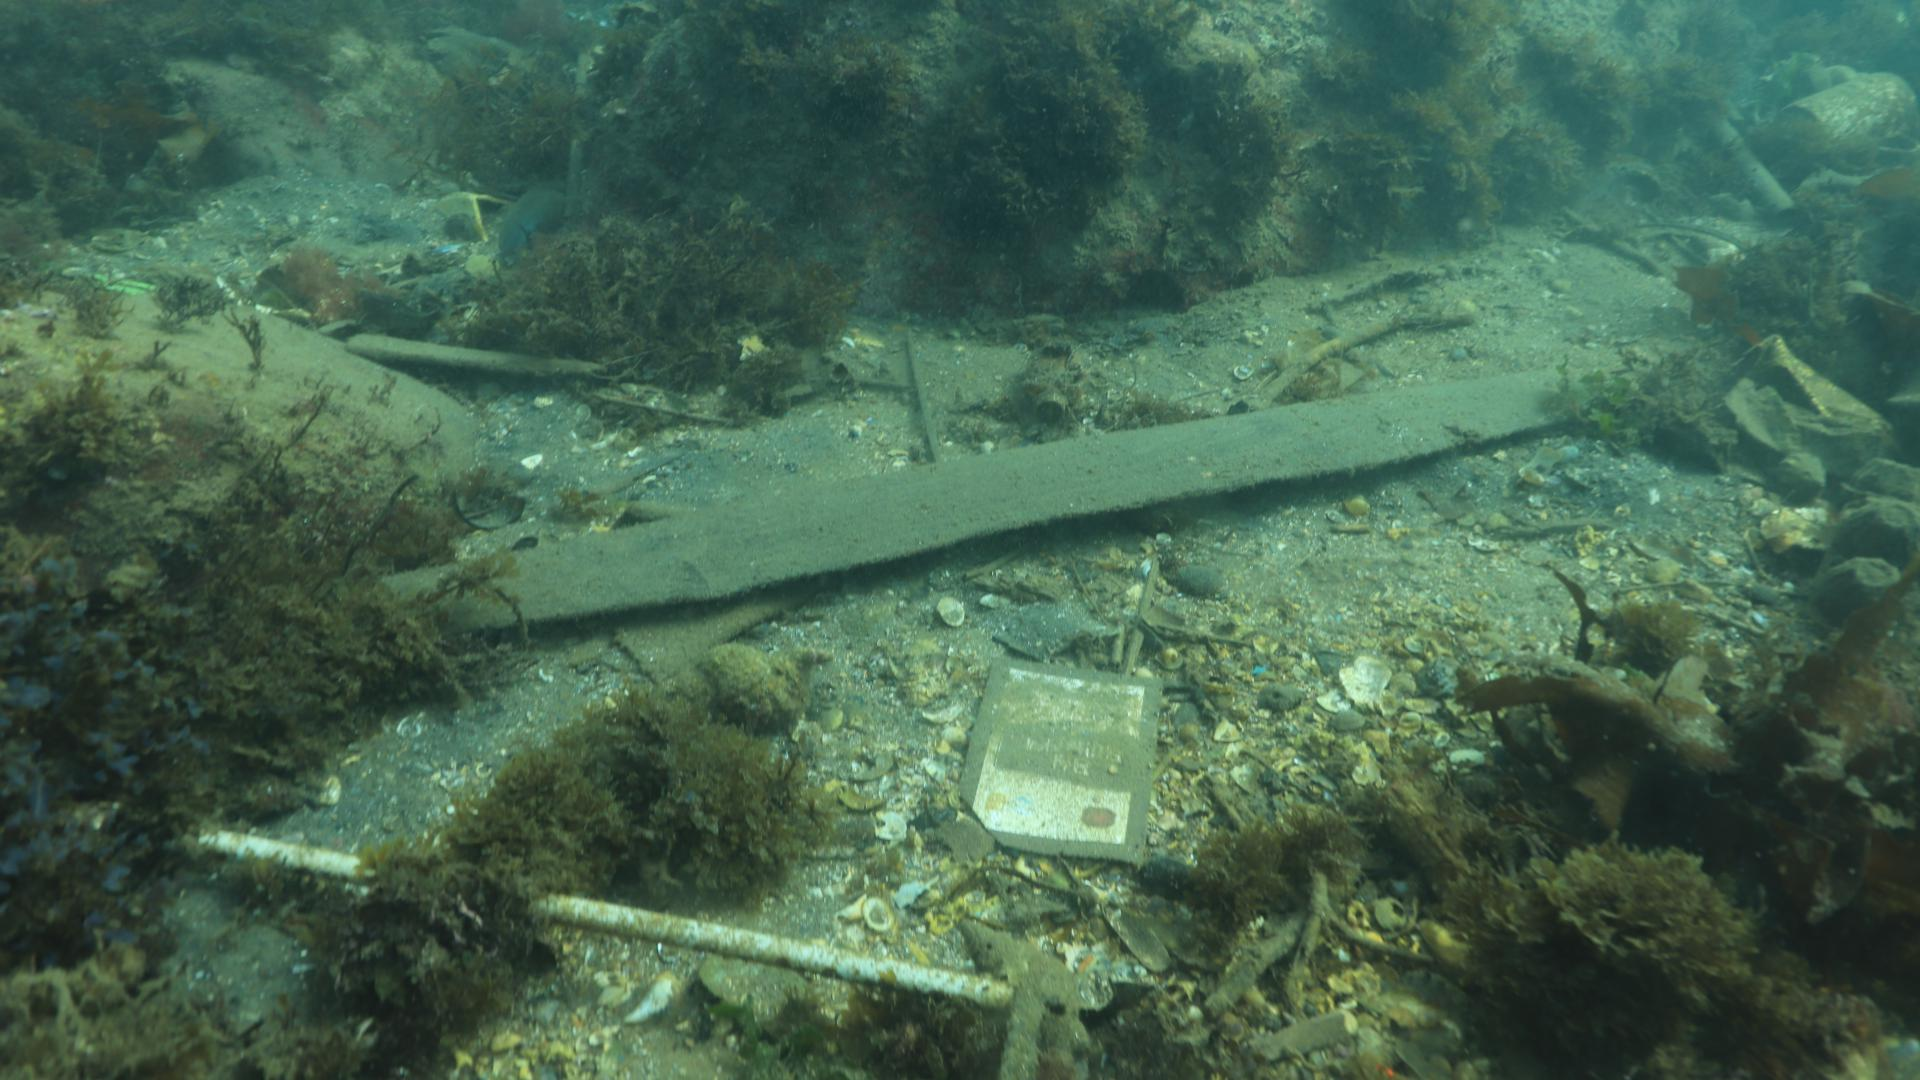wood: (376, 367, 1589, 636)
